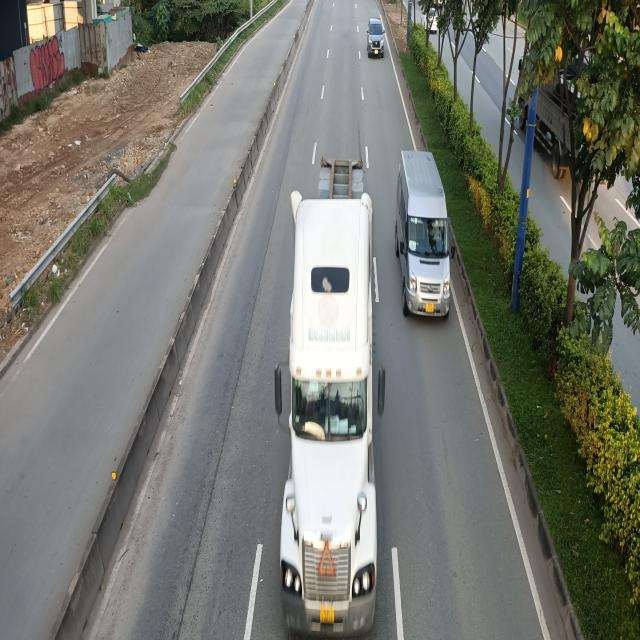car: (368, 17, 386, 57)
container: (272, 159, 384, 640)
van: (396, 149, 454, 320)
